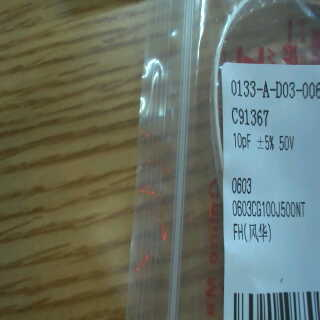10pF: (230, 129, 255, 151)
